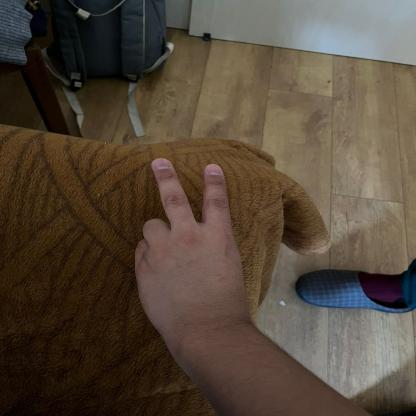V: (129, 148, 251, 326)
